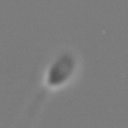normal: (12, 87, 47, 127)
